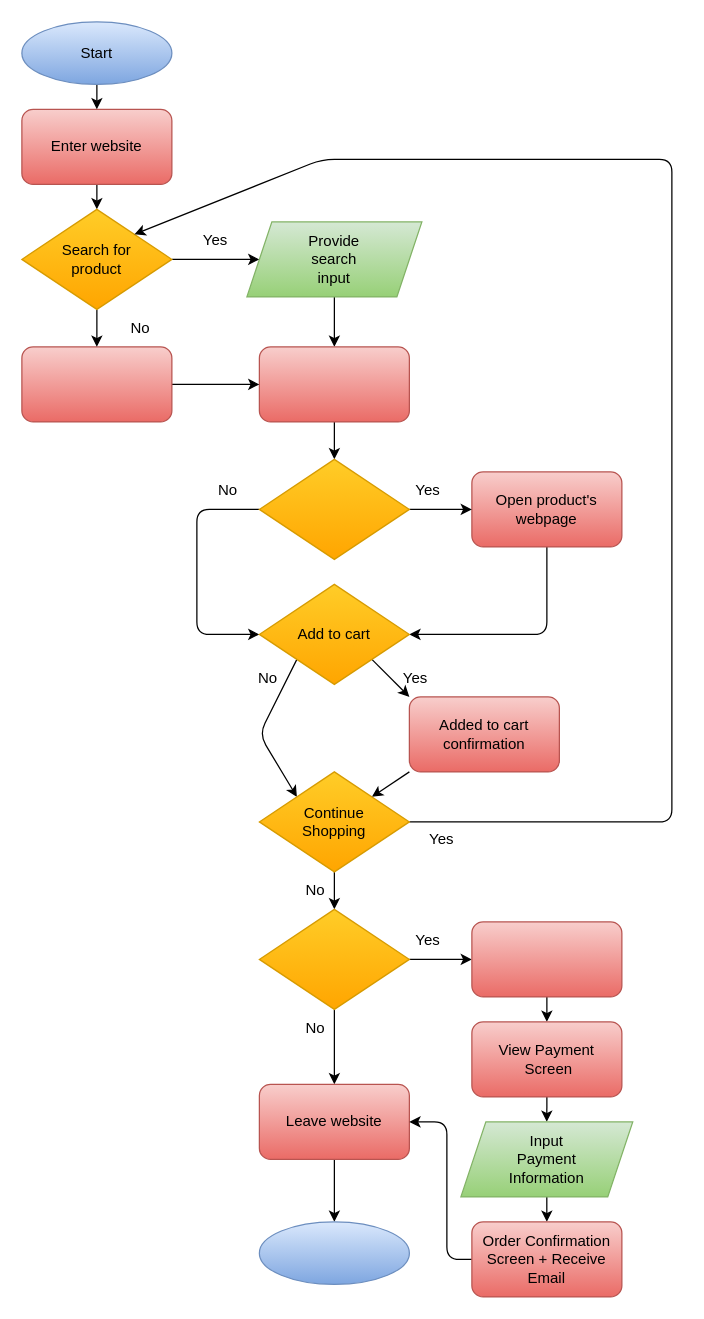
This 704x1319 diagram has some shape labels left out. The centre of each missing label's shape, as x and y in pixels:
"Checkout" belongs at point 333,958.
"End" belongs at point 333,1252.
"Explore products on home page" belongs at point 96,384.
"Look over products" belongs at point 333,384.
"View Cart Screen" belongs at point 546,959.
"View specifc product" belongs at point 333,508.
